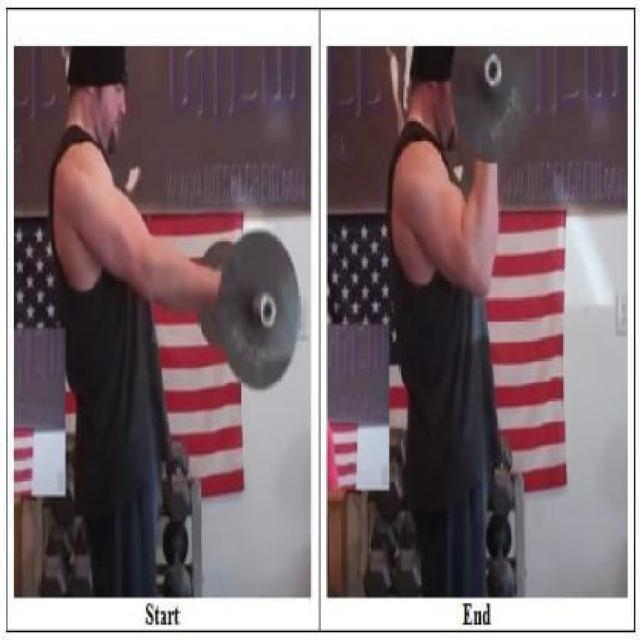barbell: (212, 231, 300, 395), (446, 51, 535, 167)
